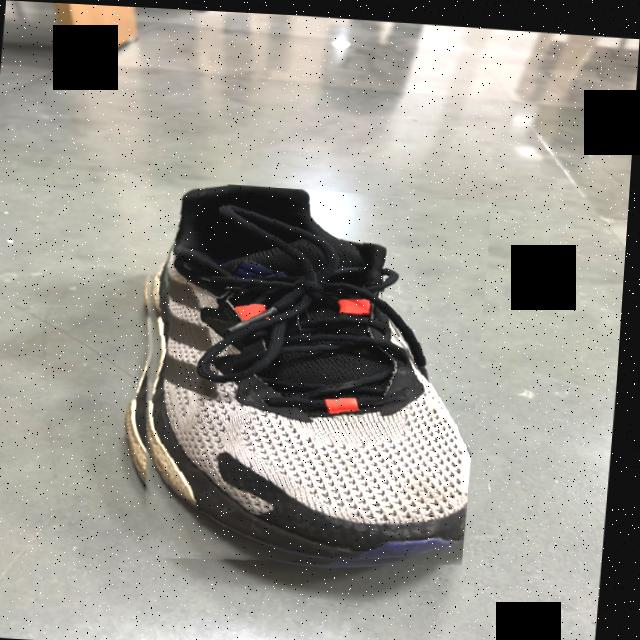shoe: (124, 176, 495, 574)
